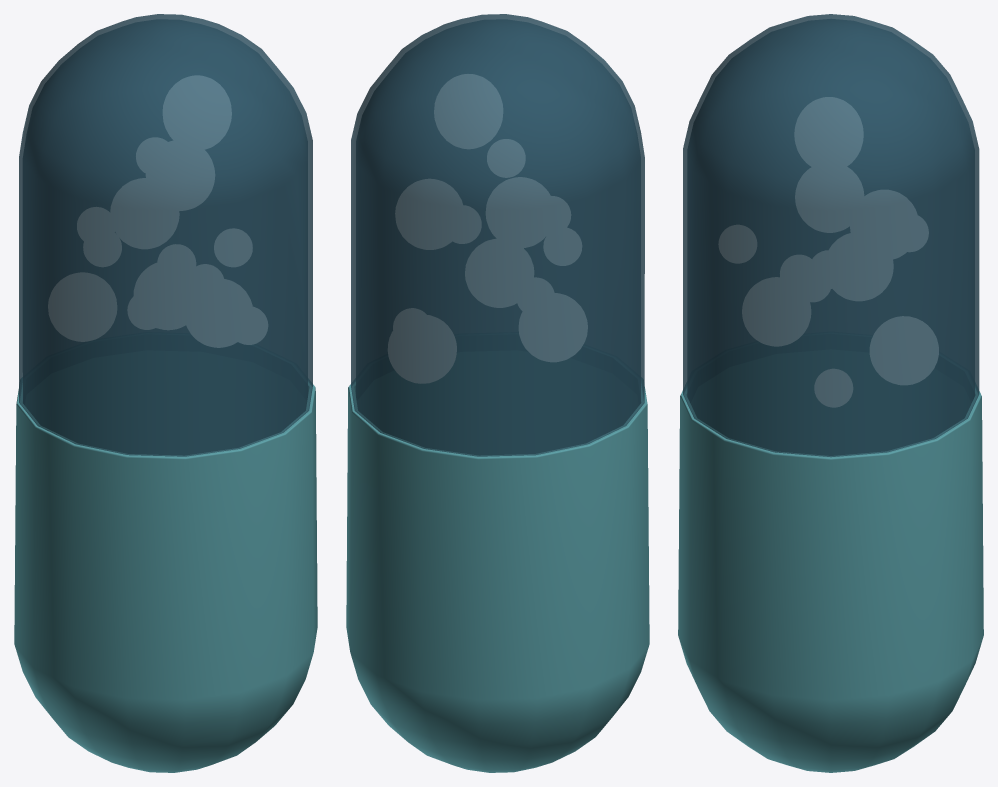
The model's file is capsule-water.glb.
3 renders of one model, left to right at view 1: azimuth 30°, elevation 25°; view 2: azimuth 150°, elevation 25°; view 3: azimuth 270°, elevation 25°, orthographic.
Parts seen in each view (by area): view 1: polySurface3_2.001, polySurface3_1.001, Sphere.002, Sphere.003, Sphere.004, Sphere, Sphere.005, Sphere.001, Sphere.011, Sphere.008, Sphere.013, Sphere.010 (+4 smaller); view 2: polySurface3_2.001, polySurface3_1.001, Sphere.002, Sphere.005, Sphere.003, Sphere.004, Sphere.001, Sphere, Sphere.010, Sphere.013, Sphere.006, Sphere.007 (+2 smaller); view 3: polySurface3_2.001, polySurface3_1.001, Sphere.002, Sphere.005, Sphere.001, Sphere, Sphere.003, Sphere.004, Sphere.008, Sphere.009, Sphere.012, Sphere.007.
Part boxes in pixels (x1=…): polySurface3_2.001: x1=19, y1=14, x2=312, y2=456; polySurface3_1.001: x1=14, y1=351, x2=317, y2=772; Sphere.002: x1=163, y1=76, x2=231, y2=149; Sphere.003: x1=111, y1=178, x2=178, y2=248; Sphere.004: x1=48, y1=273, x2=116, y2=341; Sphere: x1=184, y1=280, x2=252, y2=347; Sphere.005: x1=146, y1=141, x2=214, y2=210; Sphere.001: x1=134, y1=263, x2=188, y2=329; Sphere.011: x1=128, y1=291, x2=165, y2=329; Sphere.008: x1=214, y1=229, x2=251, y2=266; Sphere.013: x1=136, y1=138, x2=173, y2=175; Sphere.010: x1=84, y1=229, x2=121, y2=266; polySurface3_2.001: x1=351, y1=14, x2=644, y2=456; polySurface3_1.001: x1=346, y1=351, x2=649, y2=772; Sphere.002: x1=434, y1=74, x2=502, y2=148; Sphere.005: x1=395, y1=179, x2=463, y2=249; Sphere.003: x1=486, y1=177, x2=554, y2=247; Sphere.004: x1=519, y1=293, x2=587, y2=361; Sphere.001: x1=388, y1=315, x2=456, y2=382; Sphere: x1=465, y1=239, x2=533, y2=307; Sphere.010: x1=544, y1=227, x2=581, y2=265; Sphere.013: x1=487, y1=139, x2=524, y2=177; Sphere.006: x1=470, y1=265, x2=507, y2=302; Sphere.007: x1=471, y1=243, x2=508, y2=271; polySurface3_2.001: x1=683, y1=14, x2=979, y2=457; polySurface3_1.001: x1=678, y1=350, x2=983, y2=772; Sphere.002: x1=795, y1=97, x2=862, y2=171; Sphere.005: x1=850, y1=190, x2=918, y2=259; Sphere.001: x1=870, y1=316, x2=938, y2=384; Sphere: x1=742, y1=277, x2=810, y2=345; Sphere.003: x1=795, y1=167, x2=863, y2=232; Sphere.004: x1=830, y1=234, x2=892, y2=300; Sphere.008: x1=780, y1=255, x2=817, y2=292; Sphere.009: x1=719, y1=225, x2=756, y2=262; Sphere.012: x1=815, y1=369, x2=852, y2=406; Sphere.007: x1=813, y1=251, x2=847, y2=288.
Bounding box in the file's own units: 0.0641 × 0.169 × 0.0641.
